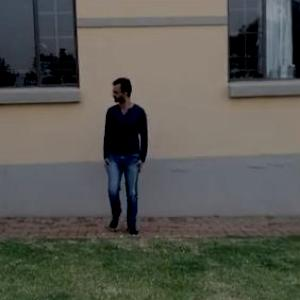follow: (101, 76, 148, 234)
